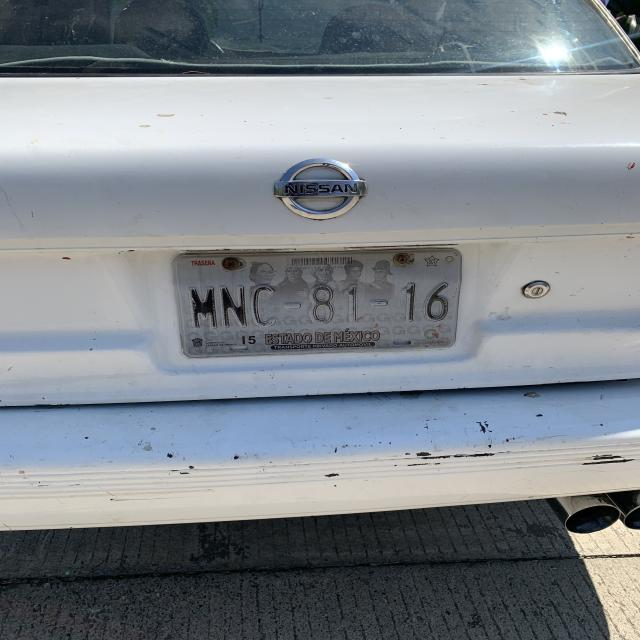placa: (174, 279, 464, 330)
